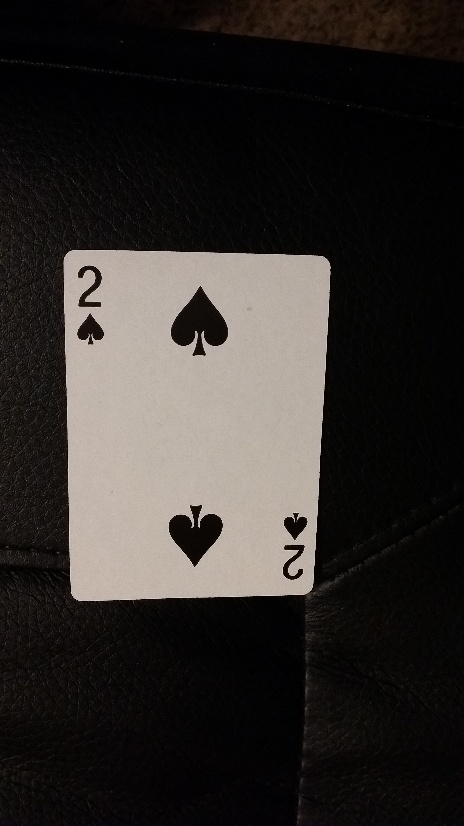S2: (68, 255, 114, 344), (279, 504, 312, 590)
